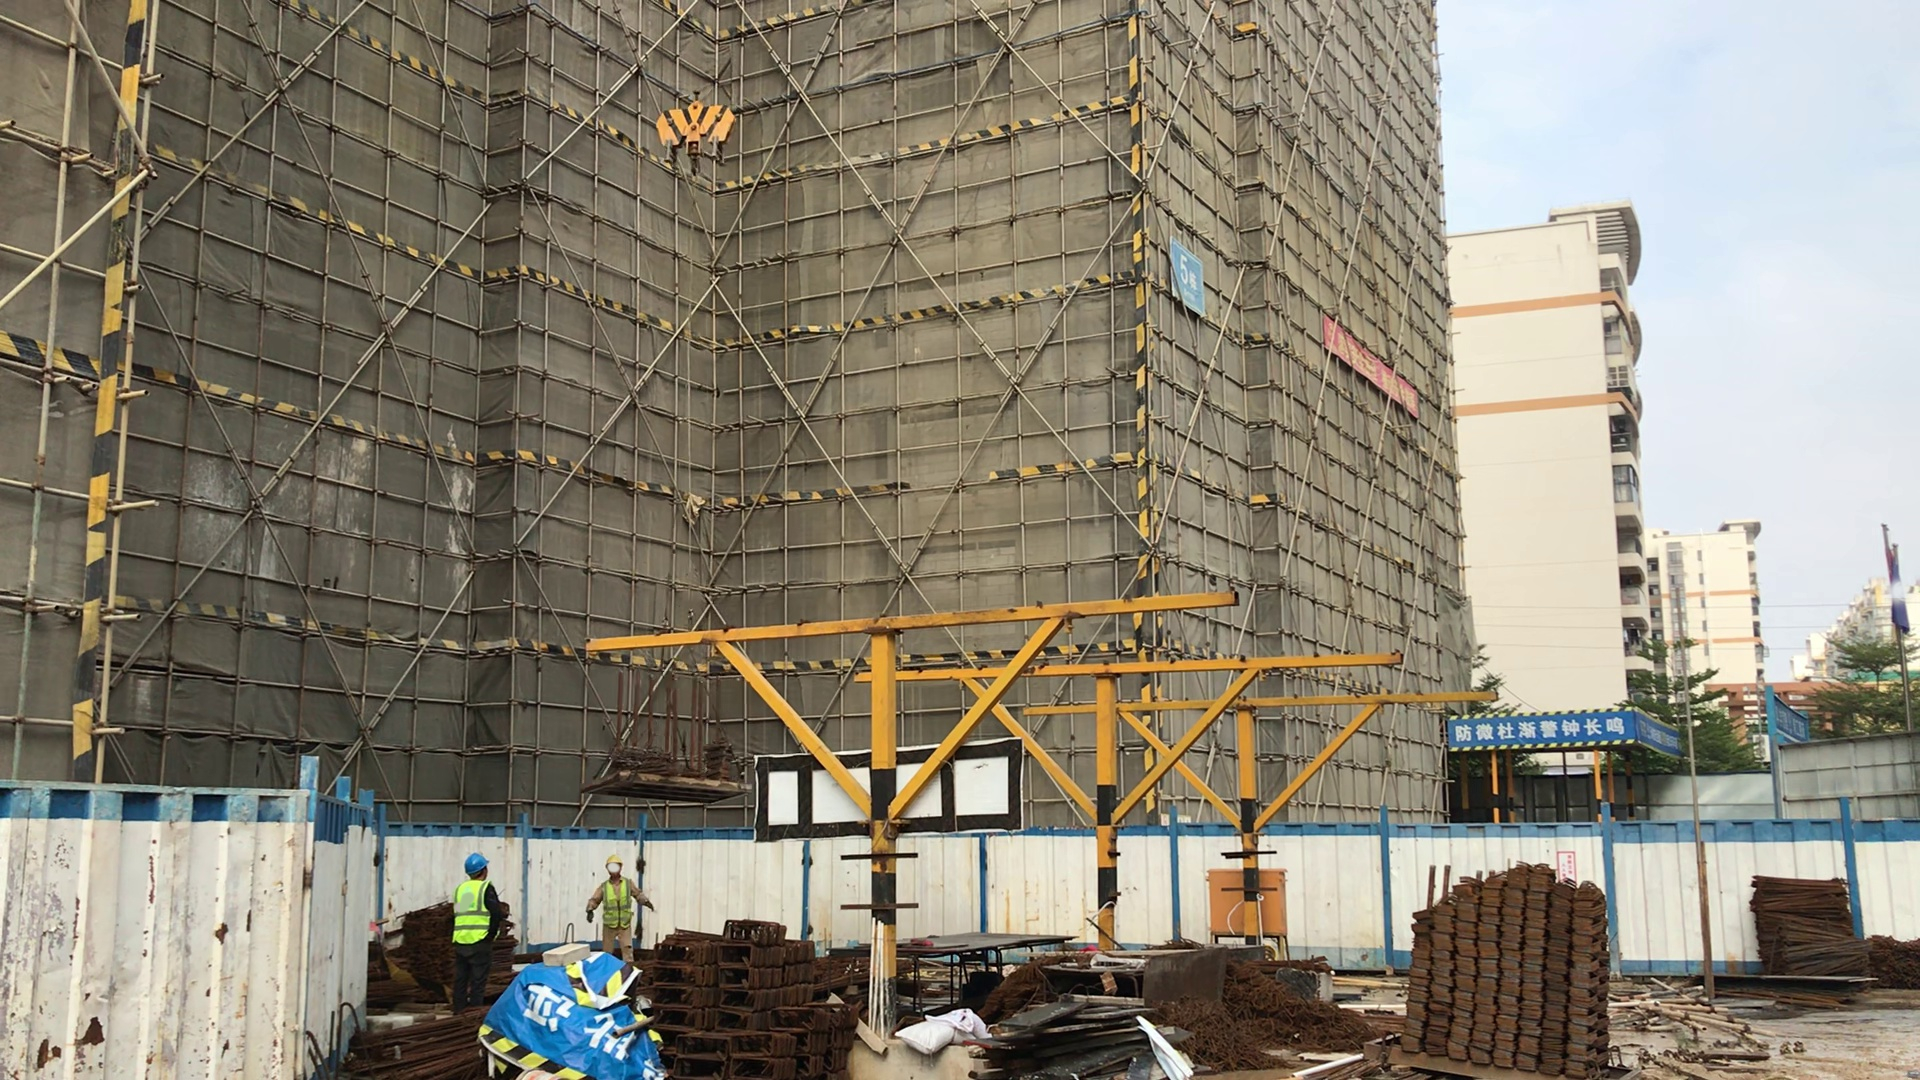helmet: (462, 852, 492, 876), (606, 854, 627, 867)
hook: (649, 83, 738, 162)
person: (452, 854, 509, 1014), (588, 853, 652, 978)
rebar: (1748, 877, 1873, 982)
slogan: (1448, 719, 1632, 749)
vest: (453, 880, 490, 947)
